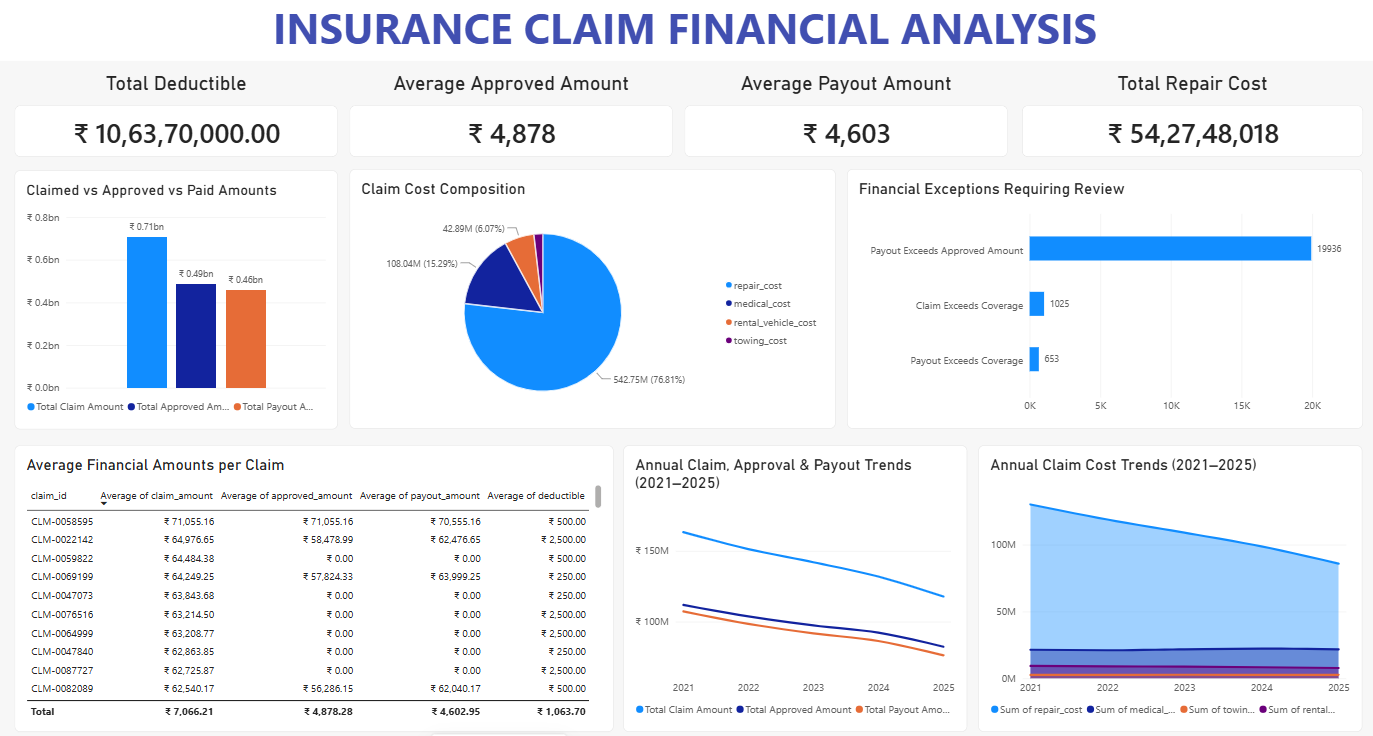

What the dashboard file says about the page in this screenshot:
{"tool":"powerbi","page":{"name":"Financial Analysis","canvas":[1920,1080],"ordinal":2},"visuals":[{"type":"textbox","box":[0,0,1920,86],"z":0},{"type":"cardVisual","title":"Total Deductible","fields":{"Data":["insurance_claim_fraud_powerbi.Total Deductible"]},"box":[24,102,451.4,120],"z":1000},{"type":"cardVisual","title":"Average Approved Amount","fields":{"Data":["insurance_claim_fraud_powerbi.Average Approved Amount"]},"box":[492,102,451.4,120],"z":2000},{"type":"cardVisual","title":"Average Payout Amount","fields":{"Data":["insurance_claim_fraud_powerbi.Average Payout Amount"]},"box":[960,102,451.4,120],"z":3000},{"type":"cardVisual","title":"Total Repair Cost","fields":{"Data":["insurance_claim_fraud_powerbi.Total Repair Cost"]},"box":[1430,102,476,120],"z":4000},{"type":"clusteredColumnChart","title":"Claimed vs Approved vs Paid Amounts","fields":{"Y":["insurance_claim_fraud_powerbi.Total Claim Amount","insurance_claim_fraud_powerbi.Total Approved Amount","insurance_claim_fraud_powerbi.Total Payout Amount"]},"box":[24.3,238.6,451.4,361.4],"z":5000},{"type":"pieChart","title":"Claim Cost Composition","fields":{"Category":["Claim Cost Breakdown.Cost Type"],"Y":["Sum(Claim Cost Breakdown.Cost Amount)"]},"box":[492,238,678,362],"z":6000},{"type":"clusteredBarChart","title":"Financial Exceptions Requiring Review","fields":{"Category":["Financial Exception Types.Exception Type"],"Y":["Financial Exception Types.Financial Exception Count"]},"box":[1186,238,720,362],"z":7000},{"type":"lineChart","title":"Annual Claim, Approval & Payout Trends (2021–2025)","fields":{"Category":["insurance_claim_fraud_powerbi.claim_date.Variation.Date Hierarchy.Year","insurance_claim_fraud_powerbi.claim_date.Variation.Date Hierarchy.Month"],"Y":["insurance_claim_fraud_powerbi.Total Claim Amount","insurance_claim_fraud_powerbi.Total Approved Amount","insurance_claim_fraud_powerbi.Total Payout Amount"]},"box":[874,622,480,400],"z":8000},{"type":"areaChart","title":"Annual Claim Cost Trends (2021–2025)","fields":{"Category":["insurance_claim_fraud_powerbi.claim_date.Variation.Date Hierarchy.Year","insurance_claim_fraud_powerbi.claim_date.Variation.Date Hierarchy.Month"],"Y":["Sum(insurance_claim_fraud_powerbi.repair_cost)","Sum(insurance_claim_fraud_powerbi.medical_cost)","Sum(insurance_claim_fraud_powerbi.towing_cost)","Sum(insurance_claim_fraud_powerbi.rental_vehicle_cost)"]},"box":[1370,622,536,400],"z":9000},{"type":"tableEx","title":"Average Financial Amounts per Claim","fields":{"Values":["insurance_claim_fraud_powerbi.claim_id","Avg(insurance_claim_fraud_powerbi.claim_amount)","Avg(insurance_claim_fraud_powerbi.approved_amount)","Avg(insurance_claim_fraud_powerbi.payout_amount)","Avg(insurance_claim_fraud_powerbi.deductible)"]},"box":[24,622,836,400],"z":10000}]}

Visuals, with their boxes on the page's 1920x1080 design canvas (x1, y1, x2, y2). These are canvas units, not pixel positions in the 1373x736 screenshot, which may show the page scaled, cropped or inside an application window:
textbox: 0/0/1920/86
"Total Deductible" cardVisual: 24/102/475/222
"Average Approved Amount" cardVisual: 492/102/943/222
"Average Payout Amount" cardVisual: 960/102/1411/222
"Total Repair Cost" cardVisual: 1430/102/1906/222
"Claimed vs Approved vs Paid Amounts" clusteredColumnChart: 24/239/476/600
"Claim Cost Composition" pieChart: 492/238/1170/600
"Financial Exceptions Requiring Review" clusteredBarChart: 1186/238/1906/600
"Annual Claim, Approval & Payout Trends (2021–2025)" lineChart: 874/622/1354/1022
"Annual Claim Cost Trends (2021–2025)" areaChart: 1370/622/1906/1022
"Average Financial Amounts per Claim" tableEx: 24/622/860/1022
